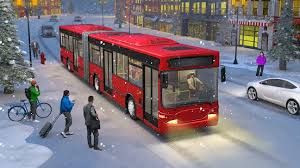bus: (58, 23, 227, 137)
